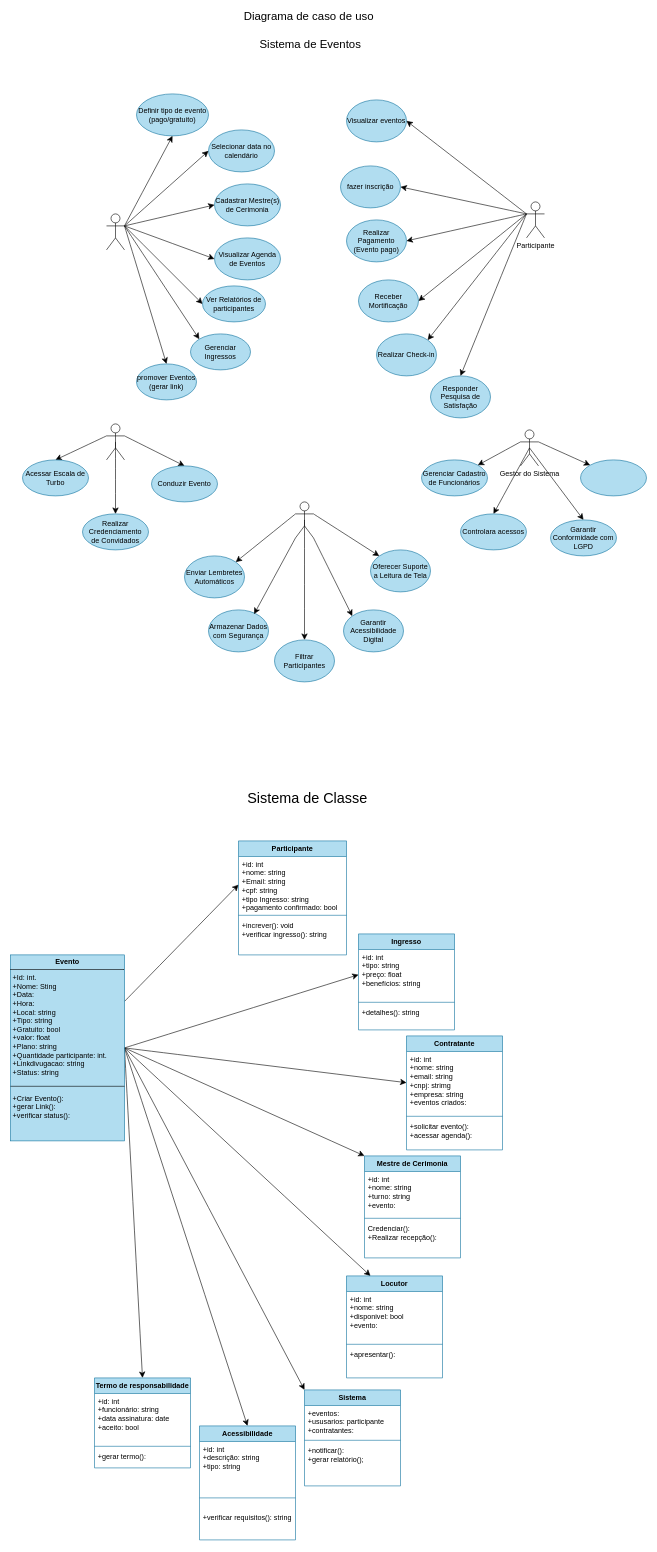
Image size: 657x1552. Some labels were removed from this diagram. The shapes that lost their labels are listed below. From the top down, each one's centre as x and y in pixels, then its label:
At (x=115, y=231): "cliente".
At (x=115, y=441): "M.d Cerimonia".
At (x=613, y=477): "Assinar Termo de Responsabilidade".
At (x=304, y=519): "Sistema (Internamente)".
